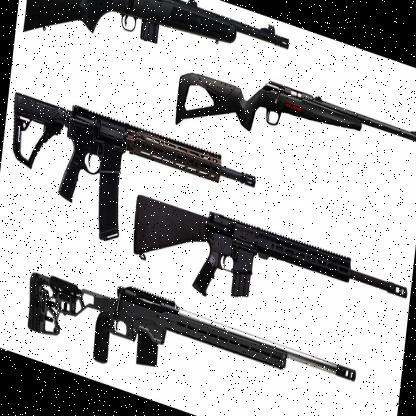rifle: (17, 242, 360, 416), (126, 183, 412, 361), (168, 45, 416, 204), (6, 82, 258, 228), (24, 0, 294, 84)
